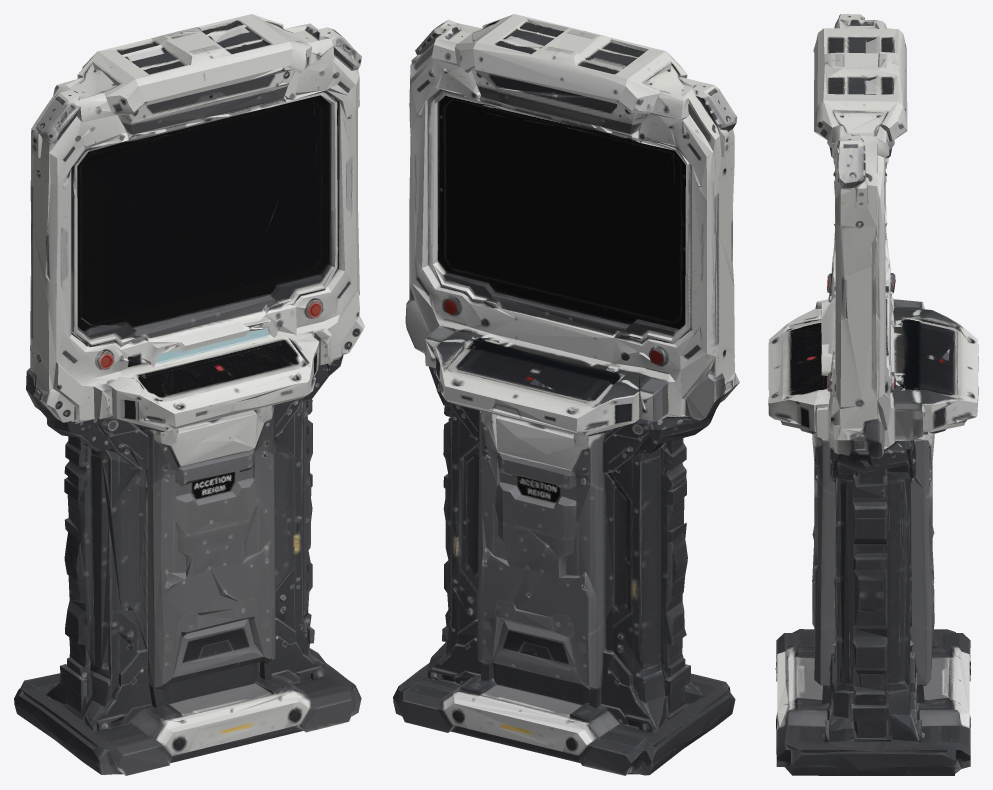
File: command_terminal.glb
The picture shows the model from 3 angles, left to right: view 1: azimuth 30°, elevation 25°; view 2: azimuth 150°, elevation 25°; view 3: azimuth 270°, elevation 25°; orthographic projection. The views are drawn at different scales.
Parts seen in each view (by area): view 1: output_unwrapped; view 2: output_unwrapped; view 3: output_unwrapped.
Boxes of the visible parts, x1=… form: output_unwrapped: x1=14, y1=14, x2=364, y2=775; output_unwrapped: x1=393, y1=14, x2=739, y2=775; output_unwrapped: x1=768, y1=14, x2=978, y2=775.
Bounding box in the file's own units: 0.9386 × 1.9 × 0.5516.
1 material, 1 textured.
